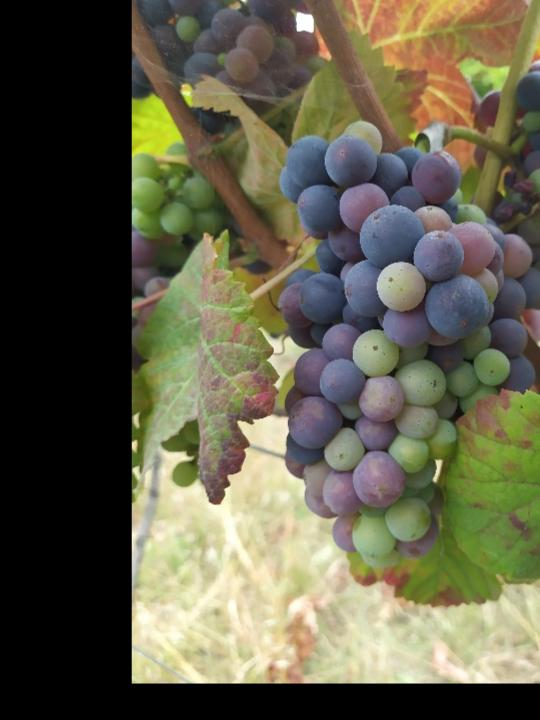grape: (276, 116, 540, 572)
